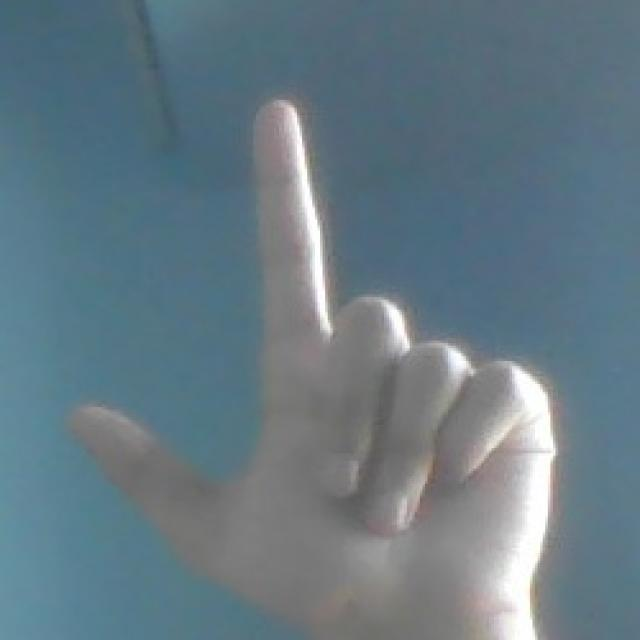Alphabet-L: (61, 66, 542, 640)
